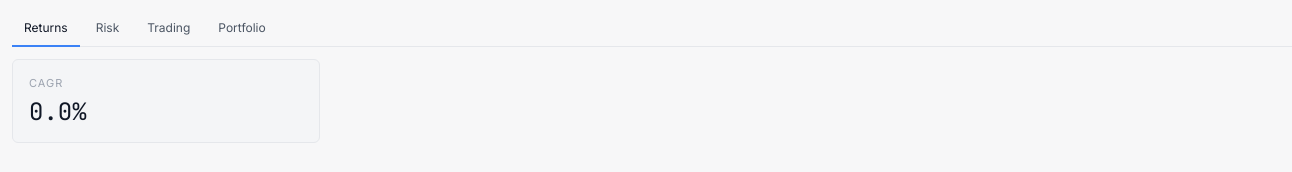
Test: KpiCards › avg duration renders with d suffix
Click the tab "Trading": (169, 29) [135,12,202,47]
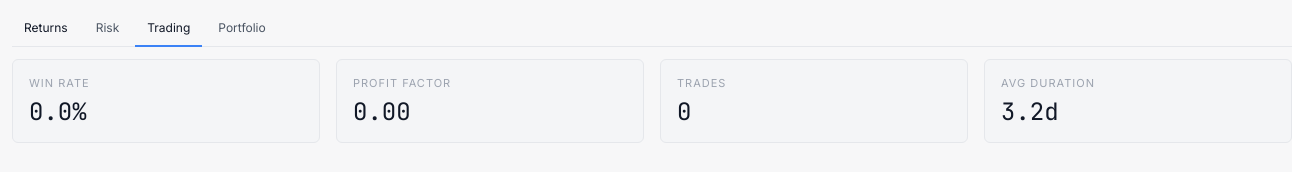
Expected: the text "Avg Duration" is shown, [1001,76,1095,90]
Expected: the text "3.2d" is shown, [1001,96,1059,127]
